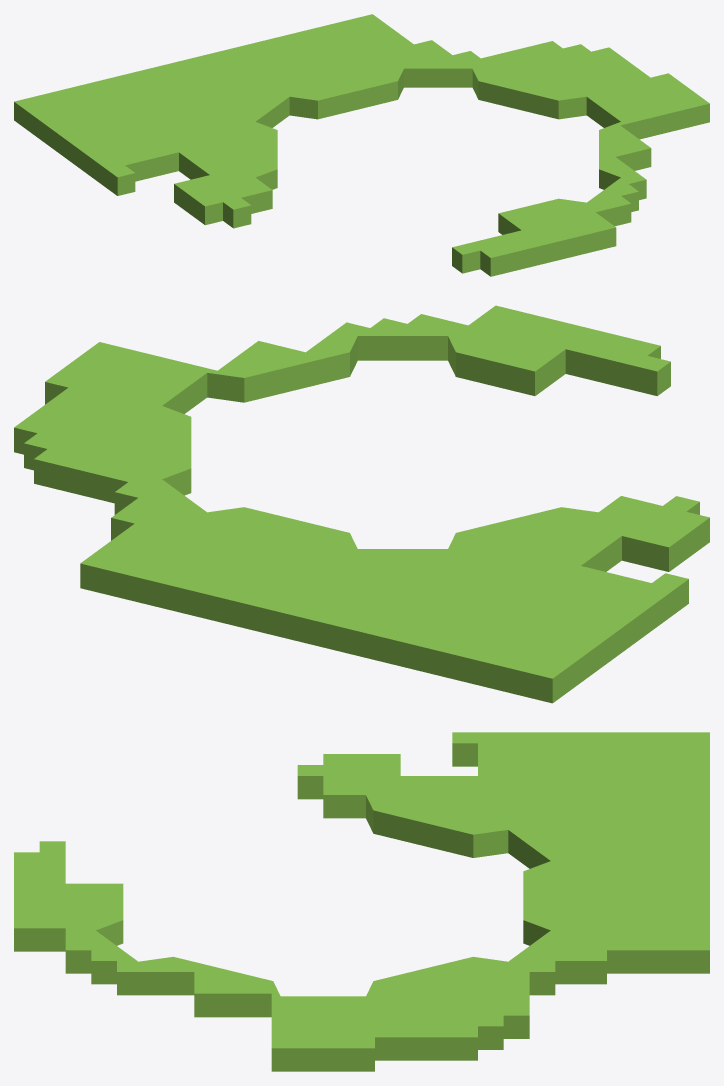
The model's file is x_zem_0_48_2_rmstrd.fbx.
The picture shows the model from 3 angles, top to bottom: view 1: azimuth 30°, elevation 25°; view 2: azimuth 150°, elevation 25°; view 3: azimuth 270°, elevation 25°; orthographic projection. The views are drawn at different scales.
Parts seen in each view (by area): view 1: x_zem_0_48_2_rmstrd1; view 2: x_zem_0_48_2_rmstrd1; view 3: x_zem_0_48_2_rmstrd1.
Part boxes in pixels (x1,y1,x2,y2): x_zem_0_48_2_rmstrd1: (14, 14, 709, 276); x_zem_0_48_2_rmstrd1: (14, 305, 709, 703); x_zem_0_48_2_rmstrd1: (14, 732, 709, 1071).
Bounding box in the file's own units: 29 × 1 × 27.
